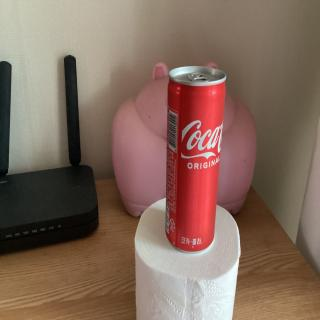cocacola: (166, 59, 227, 254)
